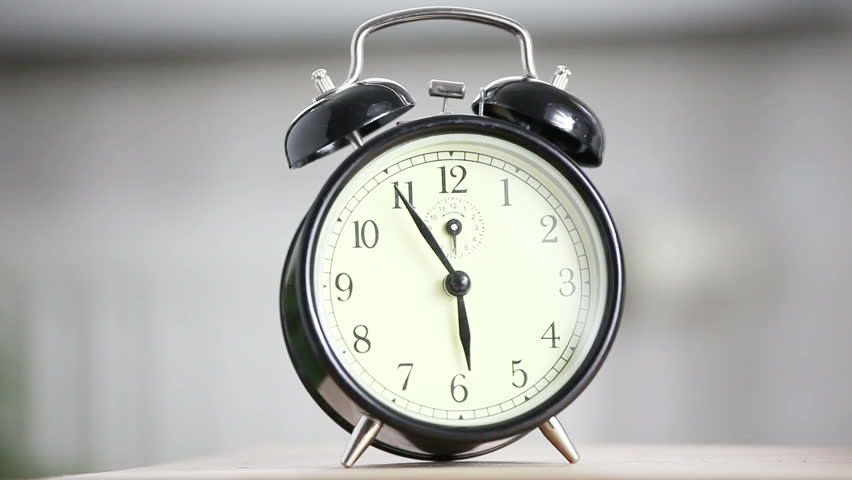clock: (315, 131, 610, 429)
